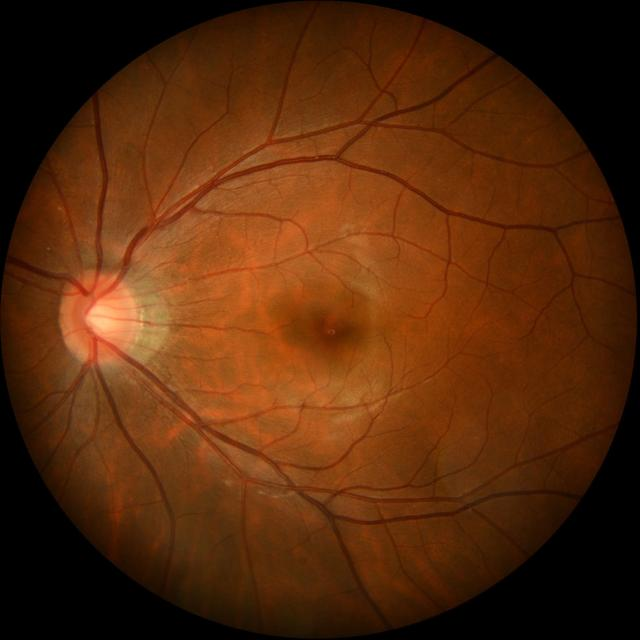OC: (84, 300, 116, 337)
OD: (60, 272, 135, 360)
